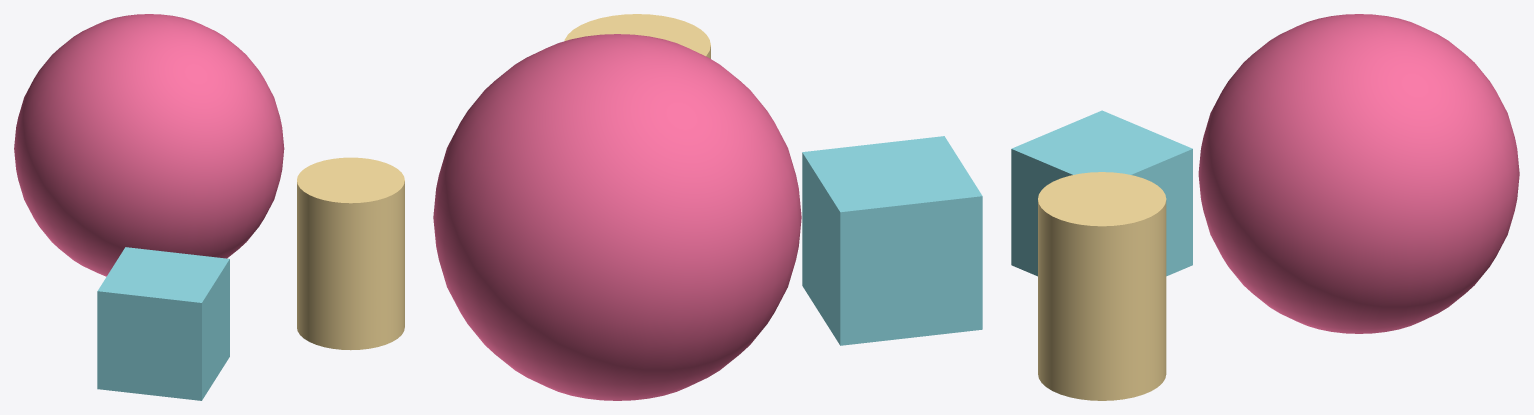
3 views of the same model, side by side, from view 1: azimuth 30°, elevation 25°; view 2: azimuth 150°, elevation 25°; view 3: azimuth 270°, elevation 25° (orthographic). The views are drawn at different scales.
Parts seen in each view (by area): view 1: Mesh_1, Mesh_2, Mesh_0; view 2: Mesh_1, Mesh_0, Mesh_2; view 3: Mesh_1, Mesh_2, Mesh_0.
Boxes of the visible parts, x1,y1,x2,y2 form: Mesh_1: (14,14,284,276); Mesh_2: (297,157,404,350); Mesh_0: (97,247,229,400); Mesh_1: (433,34,801,400); Mesh_0: (802,136,982,345); Mesh_2: (564,14,710,58); Mesh_1: (1198,14,1519,333); Mesh_2: (1038,172,1166,400); Mesh_0: (1011,110,1192,276).
Bounding box in the file's own units: 3.21 × 2.5 × 3.96.
